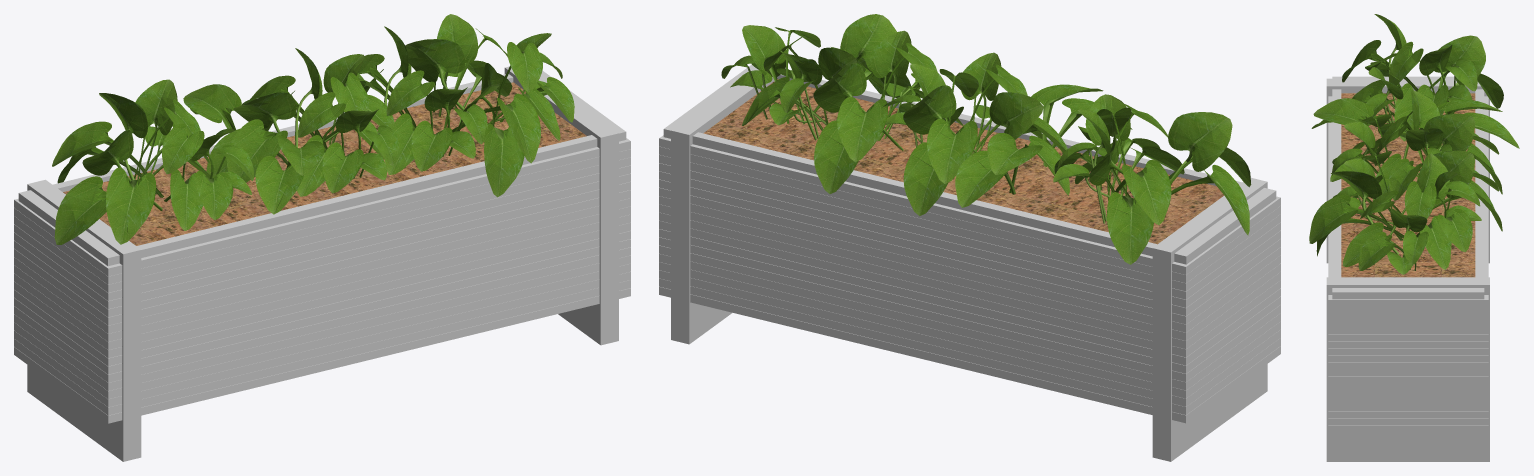
Rendered from sweethome3d-blendswap-cc-0-plant-box.glb.
The picture shows the model from 3 angles, left to right: view 1: azimuth 30°, elevation 25°; view 2: azimuth 150°, elevation 25°; view 3: azimuth 270°, elevation 25°; orthographic projection. The views are drawn at different scales.
Visible parts, largest first — view 1: Cube.001, Sapling_objArch310.000, Cube.004, Cube.002, Cube, Cube.003; view 2: Cube.001, Sapling_objArch310.000, Cube.004, Cube.002, Cube, Cube.003; view 3: Sapling_objArch310.000, Cube.001, Cube.003, Cube.004, Cube.002, Cube.
Part boxes in pixels (<box>): Cube.001: <box>14,138,630,423</box>; Sapling_objArch310.000: <box>52,14,574,244</box>; Cube.004: <box>63,82,586,245</box>; Cube.002: <box>18,70,626,266</box>; Cube: <box>27,179,141,461</box>; Cube.003: <box>504,66,618,345</box>; Cube.001: <box>659,135,1280,423</box>; Sapling_objArch310.000: <box>721,14,1251,264</box>; Cube.004: <box>703,79,1224,244</box>; Cube.002: <box>663,64,1276,264</box>; Cube: <box>1152,177,1267,461</box>; Cube.003: <box>671,67,785,344</box>; Sapling_objArch310.000: <box>1309,14,1519,274</box>; Cube.001: <box>1328,96,1488,432</box>; Cube.003: <box>1326,277,1489,461</box>; Cube.004: <box>1341,93,1475,277</box>; Cube.002: <box>1332,76,1484,299</box>; Cube: <box>1326,78,1489,263</box>.
Bounding box in the file's own units: 68.89 × 37.31 × 27.7.
3 materials, 2 textured.
